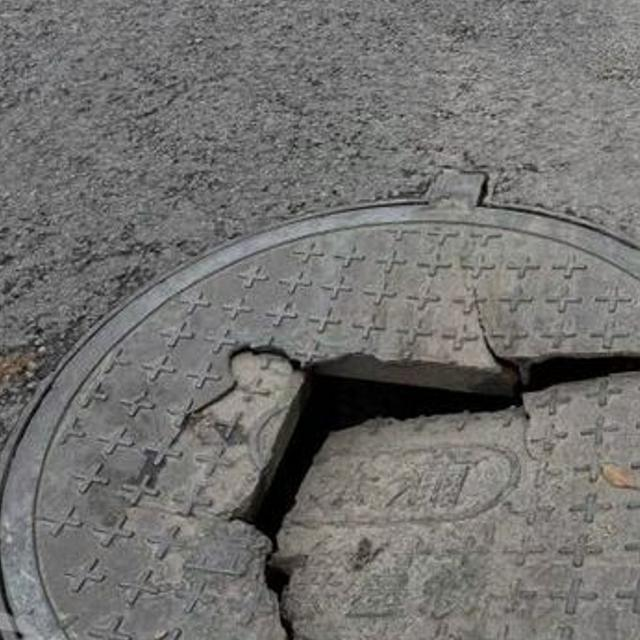broke: (0, 188, 640, 640)
